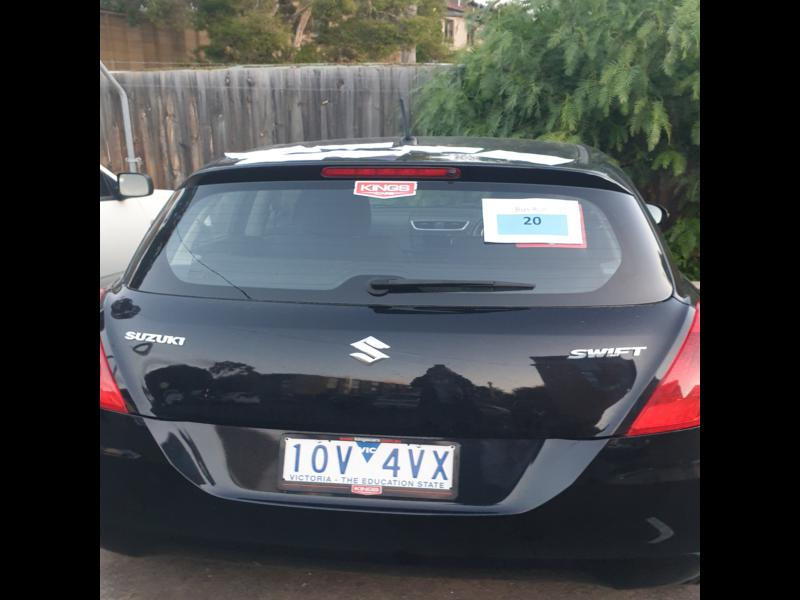BusRun: (497, 213, 564, 234)
PlateNo: (281, 433, 453, 491)
